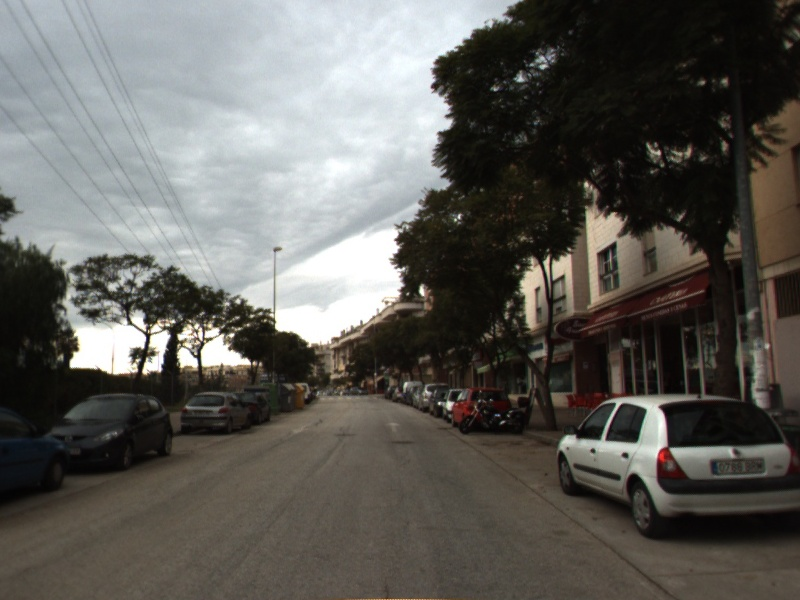STRAIGHT: (382, 420, 405, 435)
